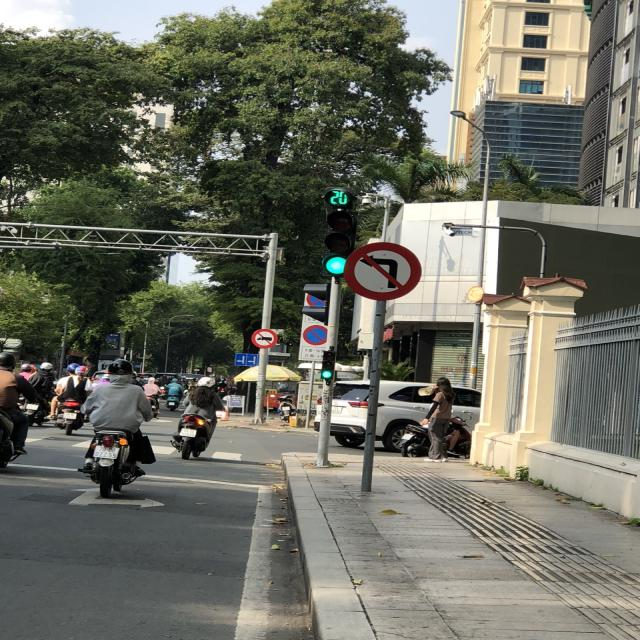Bien bao cam re trai: (336, 235, 426, 303)
Bien bao cam xe so-mi ro-mooc: (250, 328, 280, 350)
